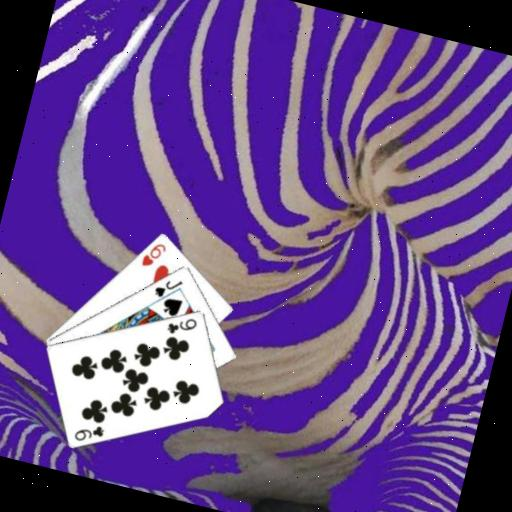6H: (138, 236, 170, 272)
9C: (163, 309, 200, 341), (70, 417, 107, 448)
JS: (150, 272, 185, 304)
